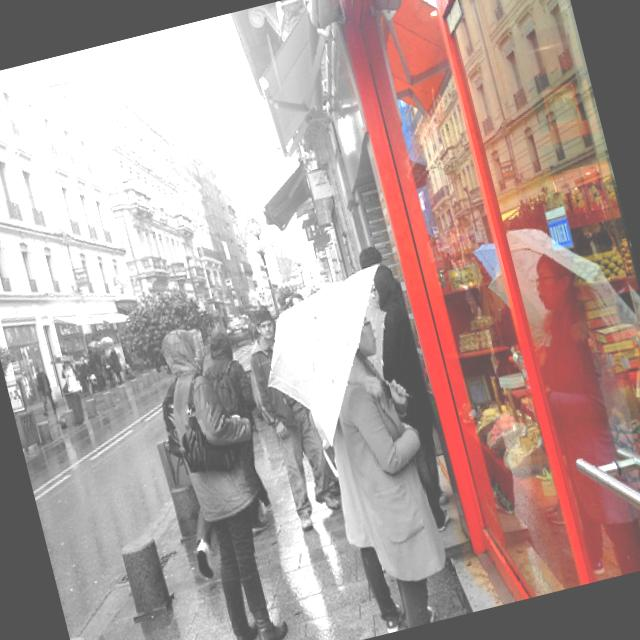Vehicle: (223, 312, 259, 349)
